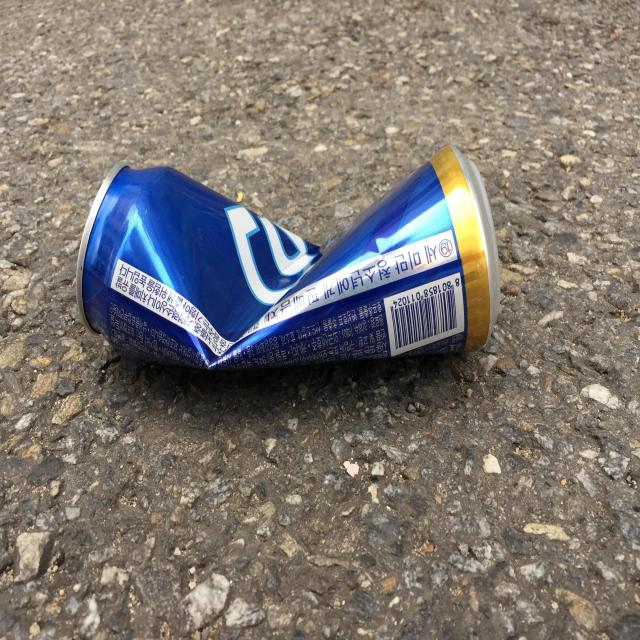can: (75, 146, 501, 369)
